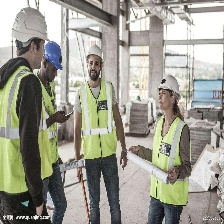helmet: (10, 6, 51, 49), (41, 38, 67, 73), (158, 72, 181, 101), (84, 42, 105, 64)
person: (1, 5, 50, 224), (72, 42, 130, 224), (146, 71, 192, 224), (40, 38, 71, 224)
vest: (2, 61, 42, 189), (73, 81, 123, 161), (149, 114, 191, 207), (32, 74, 64, 166)
